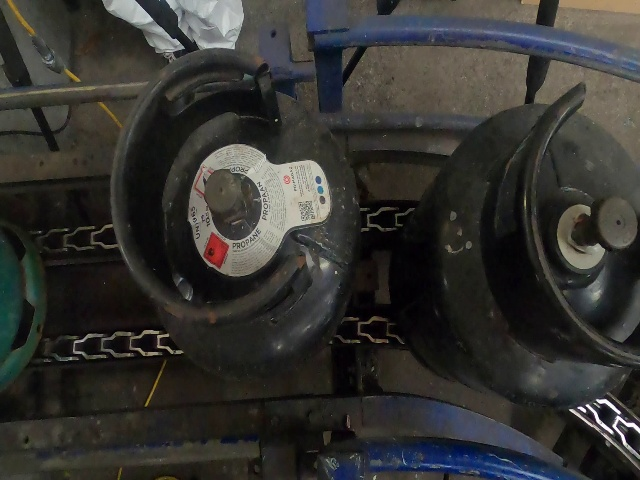gas_bottle: (0, 6, 638, 475)
